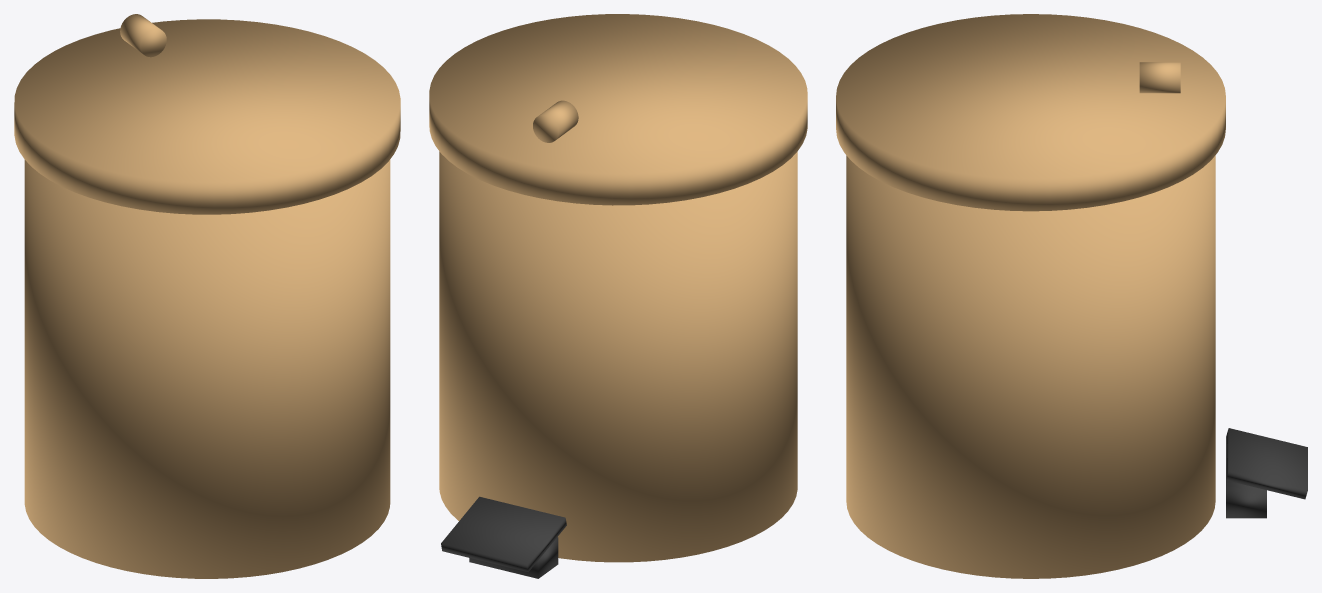
3 views of the same model, side by side, from view 1: azimuth 30°, elevation 25°; view 2: azimuth 150°, elevation 25°; view 3: azimuth 270°, elevation 25° (orthographic). The views are drawn at different scales.
Parts seen in each view (by area): view 1: Trash_Can_Body, Lid; view 2: Trash_Can_Body, Lid, Pedal_Assembly; view 3: Trash_Can_Body, Lid, Pedal_Assembly.
Boxes of the visible parts, bbox=[...] form: Trash_Can_Body: bbox=[24, 159, 390, 578]; Lid: bbox=[14, 14, 400, 214]; Trash_Can_Body: bbox=[439, 151, 797, 562]; Lid: bbox=[429, 14, 807, 205]; Pedal_Assembly: bbox=[441, 496, 566, 578]; Trash_Can_Body: bbox=[846, 155, 1215, 578]; Lid: bbox=[836, 14, 1225, 211]; Pedal_Assembly: bbox=[1226, 428, 1307, 518].
Size of the model in its own units: 0.38 by 0.47 by 0.4599.
